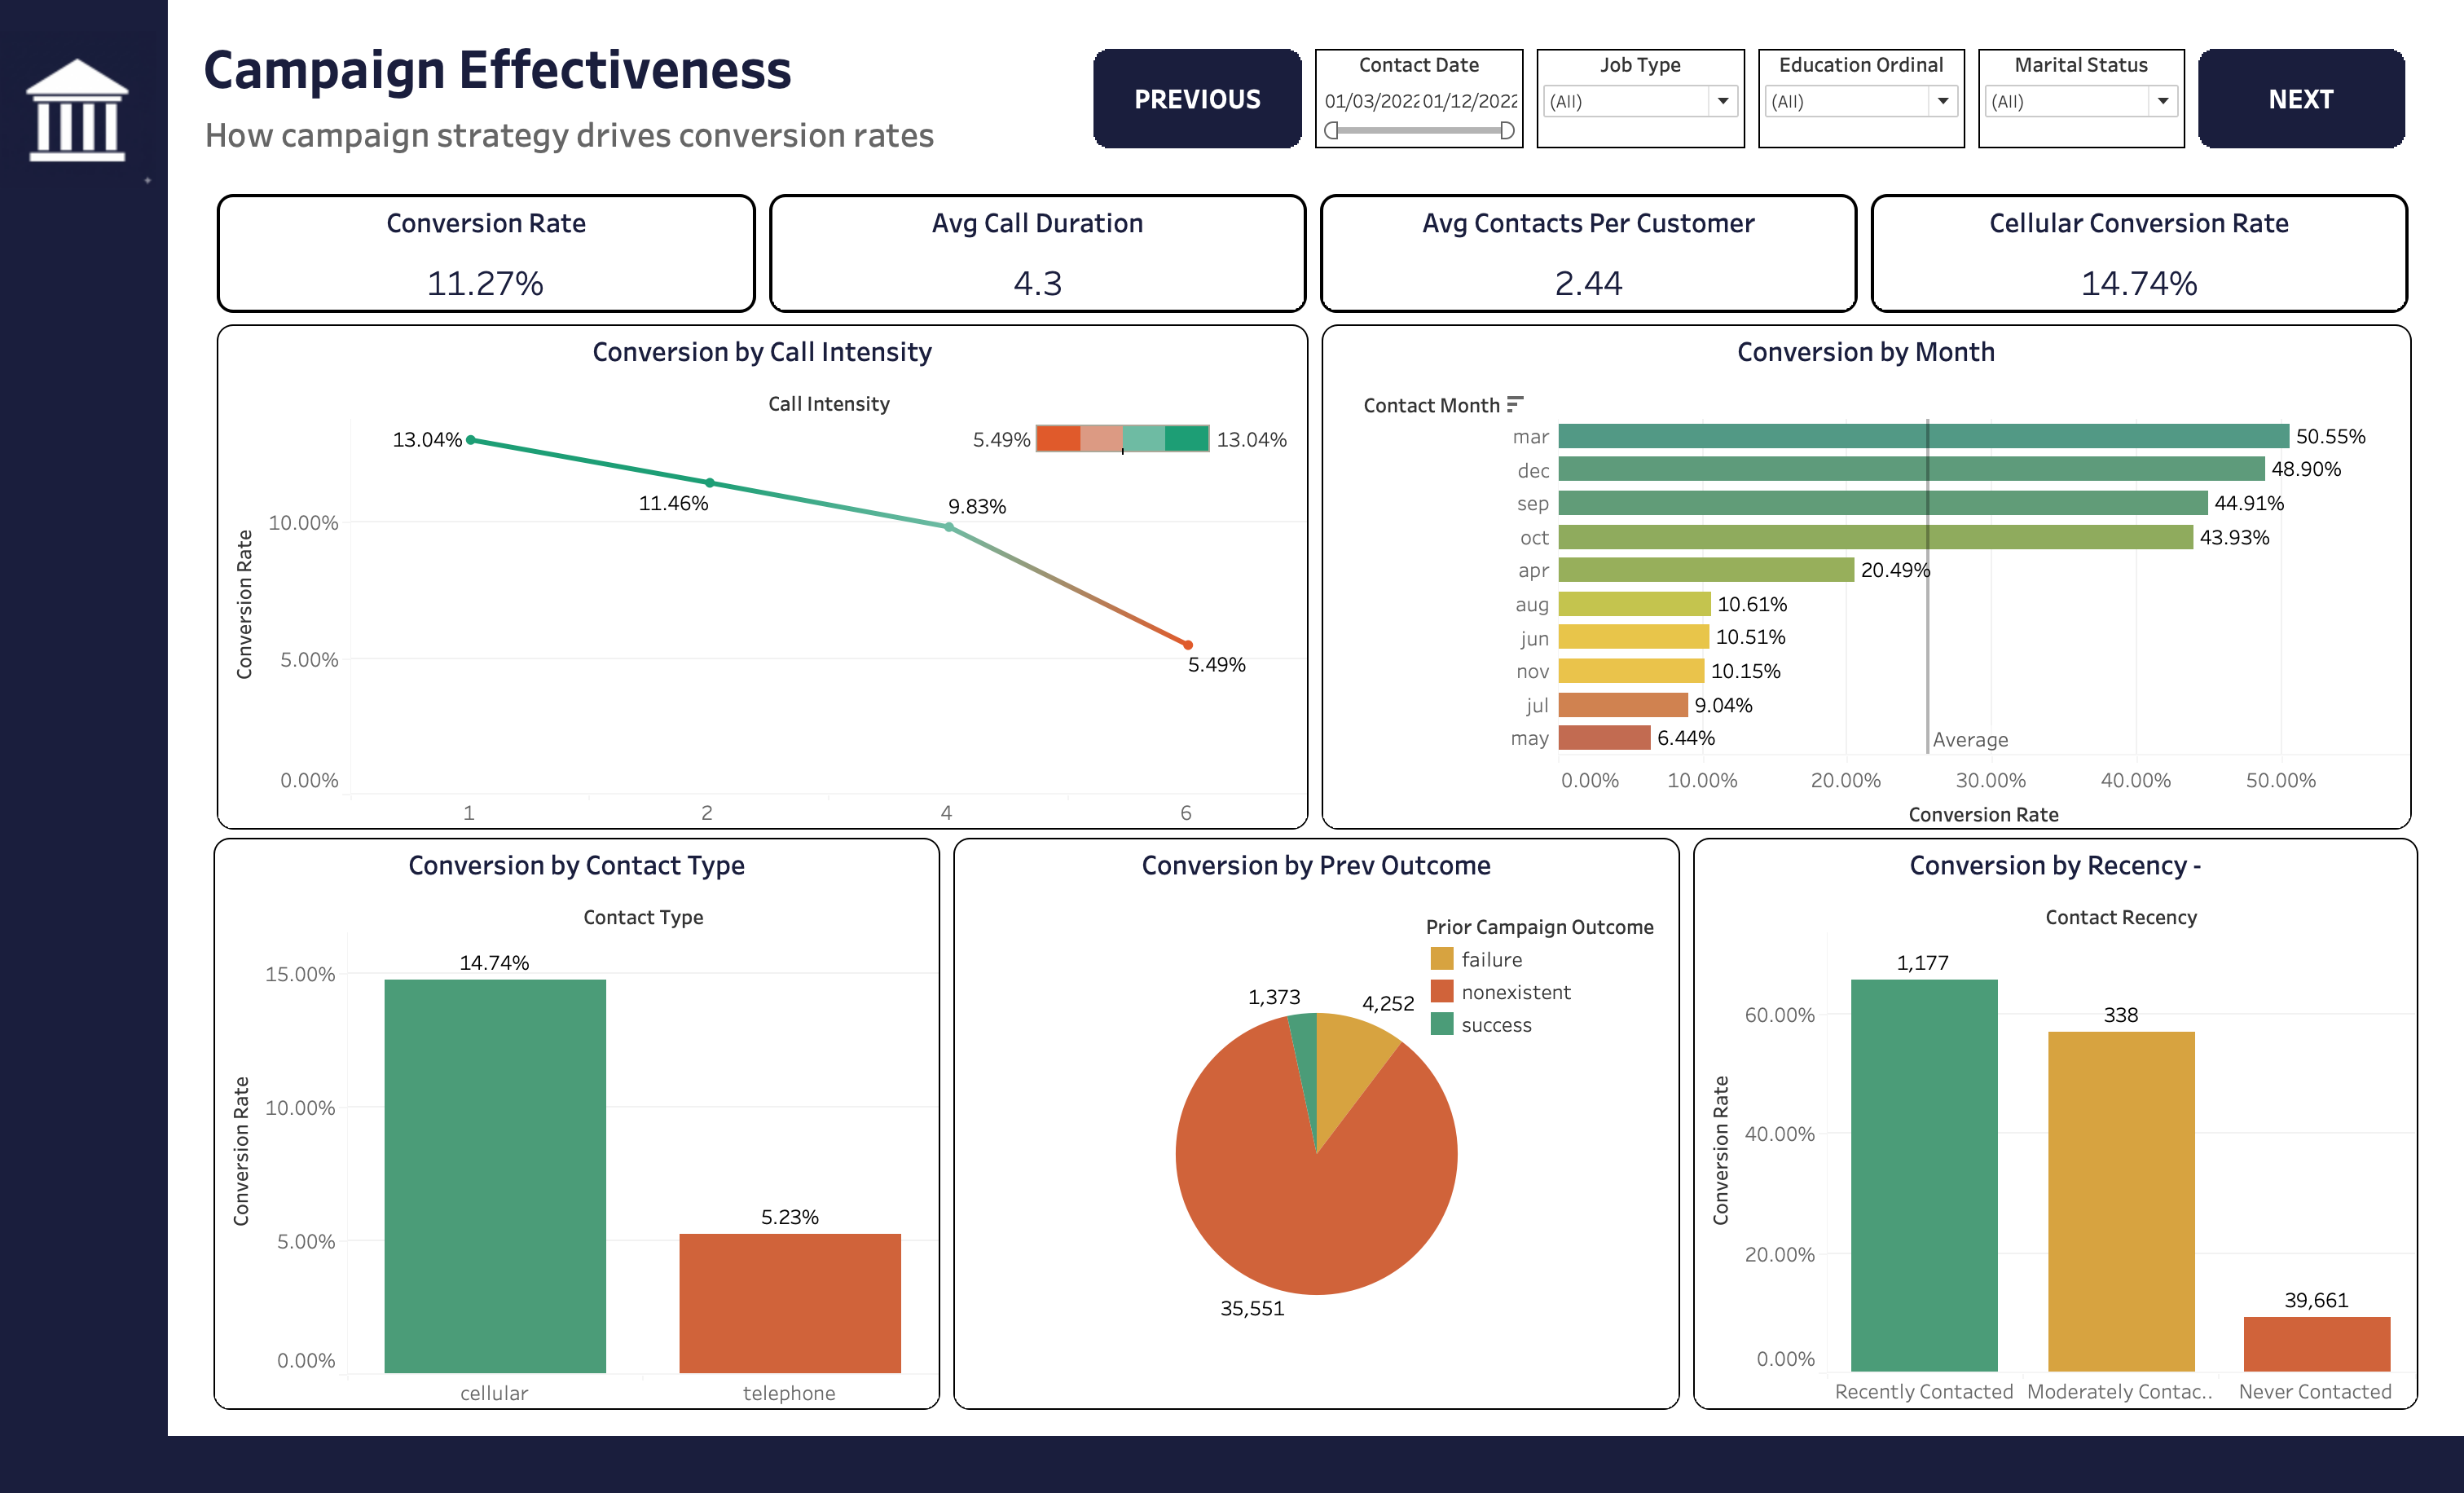

Layout of this report page (visuals, bound fields, positions):
{"tool":"tableau","page":{"name":"Dashboard 2","canvas":[1000,1000],"units":"permille","ordinal":1},"visuals":[{"type":"text","box":[71.2,8.7,923.5,112.5]},{"type":"text","box":[76.2,19.8,301,51.3]},{"type":"dashboard-object","box":[13.8,20.2,48.5,78]},{"type":"dashboard-object","box":[441.1,28.3,89.9,75.1]},{"type":"filter","title":"Conversion by Call Intensity","param":"[federated.15u9y5w1suofnn13o5t910siqhh7].[none:Calculation_2485578572034066:qk]","box":[531.1,28.3,90,75.1]},{"type":"filter","title":"Conversion by Call Intensity","param":"[federated.15u9y5w1suofnn13o5t910siqhh7].[none:job_type:nk]","box":[621,28.3,90,75.1]},{"type":"filter","title":"Conversion by Call Intensity","param":"[federated.15u9y5w1suofnn13o5t910siqhh7].[none:education_ordinal:nk]","box":[711,28.3,89.3,75.1]},{"type":"filter","title":"Conversion by Call Intensity","param":"[federated.15u9y5w1suofnn13o5t910siqhh7].[none:marital_status:nk]","box":[800.3,28.3,89.3,75.1]},{"type":"dashboard-object","box":[889.6,28.3,89.3,75.1]},{"type":"text","box":[81.1,73.5,366.8,31.5]},{"type":"text","box":[71.2,121.2,923.5,870]},{"type":"worksheet","title":"KPI2 Conversion Rate","mark":"Automatic","box":[85.3,125.1,224.2,88.1]},{"type":"worksheet","title":"KPI2 Avg Call Duration","mark":"Automatic","box":[309.5,125.1,223.6,88.1]},{"type":"worksheet","title":"KPI2 Avg Contacts","mark":"Automatic","box":[533.1,125.1,223.5,88.1]},{"type":"worksheet","title":"KPI2 Cellular Rate","mark":"Automatic","box":[756.6,125.1,223.6,88.1]},{"type":"worksheet","title":"Conversion by Call Intensity","mark":"Line","rows":["Calculation_2485578601361431"],"cols":["call_intensity"],"box":[85.3,212.2,448.4,346]},{"type":"worksheet","title":"Conversion by Month","mark":"Bar","rows":["contact_month"],"cols":["Calculation_2485578601361431"],"box":[533.7,212.2,447.8,346]},{"type":"legend","title":"Conversion by Call Intensity","param":"[federated.15u9y5w1suofnn13o5t910siqhh7].[usr:Calculation_2485578601361431:qk]","box":[392,280.1,133.7,39.7]},{"type":"worksheet","title":"Conversion by Contact Type","mark":"Bar","rows":["Calculation_2485578601361431"],"cols":["contact_type"],"box":[84,555,300.3,390.6]},{"type":"worksheet","title":"Conversion by Prev Outcome","mark":"Pie","box":[384.3,555,300.3,390.6]},{"type":"worksheet","title":"Conversion by Recency -","mark":"Bar","rows":["Calculation_2485578601361431"],"cols":["contact_recency"],"box":[684.5,555,299.6,390.6]},{"type":"legend","title":"Conversion by Prev Outcome","param":"[federated.15u9y5w1suofnn13o5t910siqhh7].[none:previous_campaign_outcome:nk]","box":[578.8,609.1,110.7,96.9]}]}

Visuals, with their boxes on the dashboard's canvas, which has no fixed pixel size, in thousandths of its width and height (x1, y1, x2, y2). These are canvas units, not pixel positions in the 2464x1493 screenshot, which may show the page scaled, cropped or inside an application window:
text: <region>71, 9, 995, 121</region>
text: <region>76, 20, 377, 71</region>
dashboard-object: <region>14, 20, 62, 98</region>
dashboard-object: <region>441, 28, 531, 103</region>
"Conversion by Call Intensity" filter: <region>531, 28, 621, 103</region>
"Conversion by Call Intensity" filter: <region>621, 28, 711, 103</region>
"Conversion by Call Intensity" filter: <region>711, 28, 800, 103</region>
"Conversion by Call Intensity" filter: <region>800, 28, 890, 103</region>
dashboard-object: <region>890, 28, 979, 103</region>
text: <region>81, 74, 448, 105</region>
text: <region>71, 121, 995, 991</region>
"KPI2 Conversion Rate" worksheet: <region>85, 125, 310, 213</region>
"KPI2 Avg Call Duration" worksheet: <region>310, 125, 533, 213</region>
"KPI2 Avg Contacts" worksheet: <region>533, 125, 757, 213</region>
"KPI2 Cellular Rate" worksheet: <region>757, 125, 980, 213</region>
"Conversion by Call Intensity" worksheet (Line marks): <region>85, 212, 534, 558</region>
"Conversion by Month" worksheet (Bar marks): <region>534, 212, 982, 558</region>
"Conversion by Call Intensity" legend: <region>392, 280, 526, 320</region>
"Conversion by Contact Type" worksheet (Bar marks): <region>84, 555, 384, 946</region>
"Conversion by Prev Outcome" worksheet (Pie marks): <region>384, 555, 685, 946</region>
"Conversion by Recency -" worksheet (Bar marks): <region>684, 555, 984, 946</region>
"Conversion by Prev Outcome" legend: <region>579, 609, 690, 706</region>
